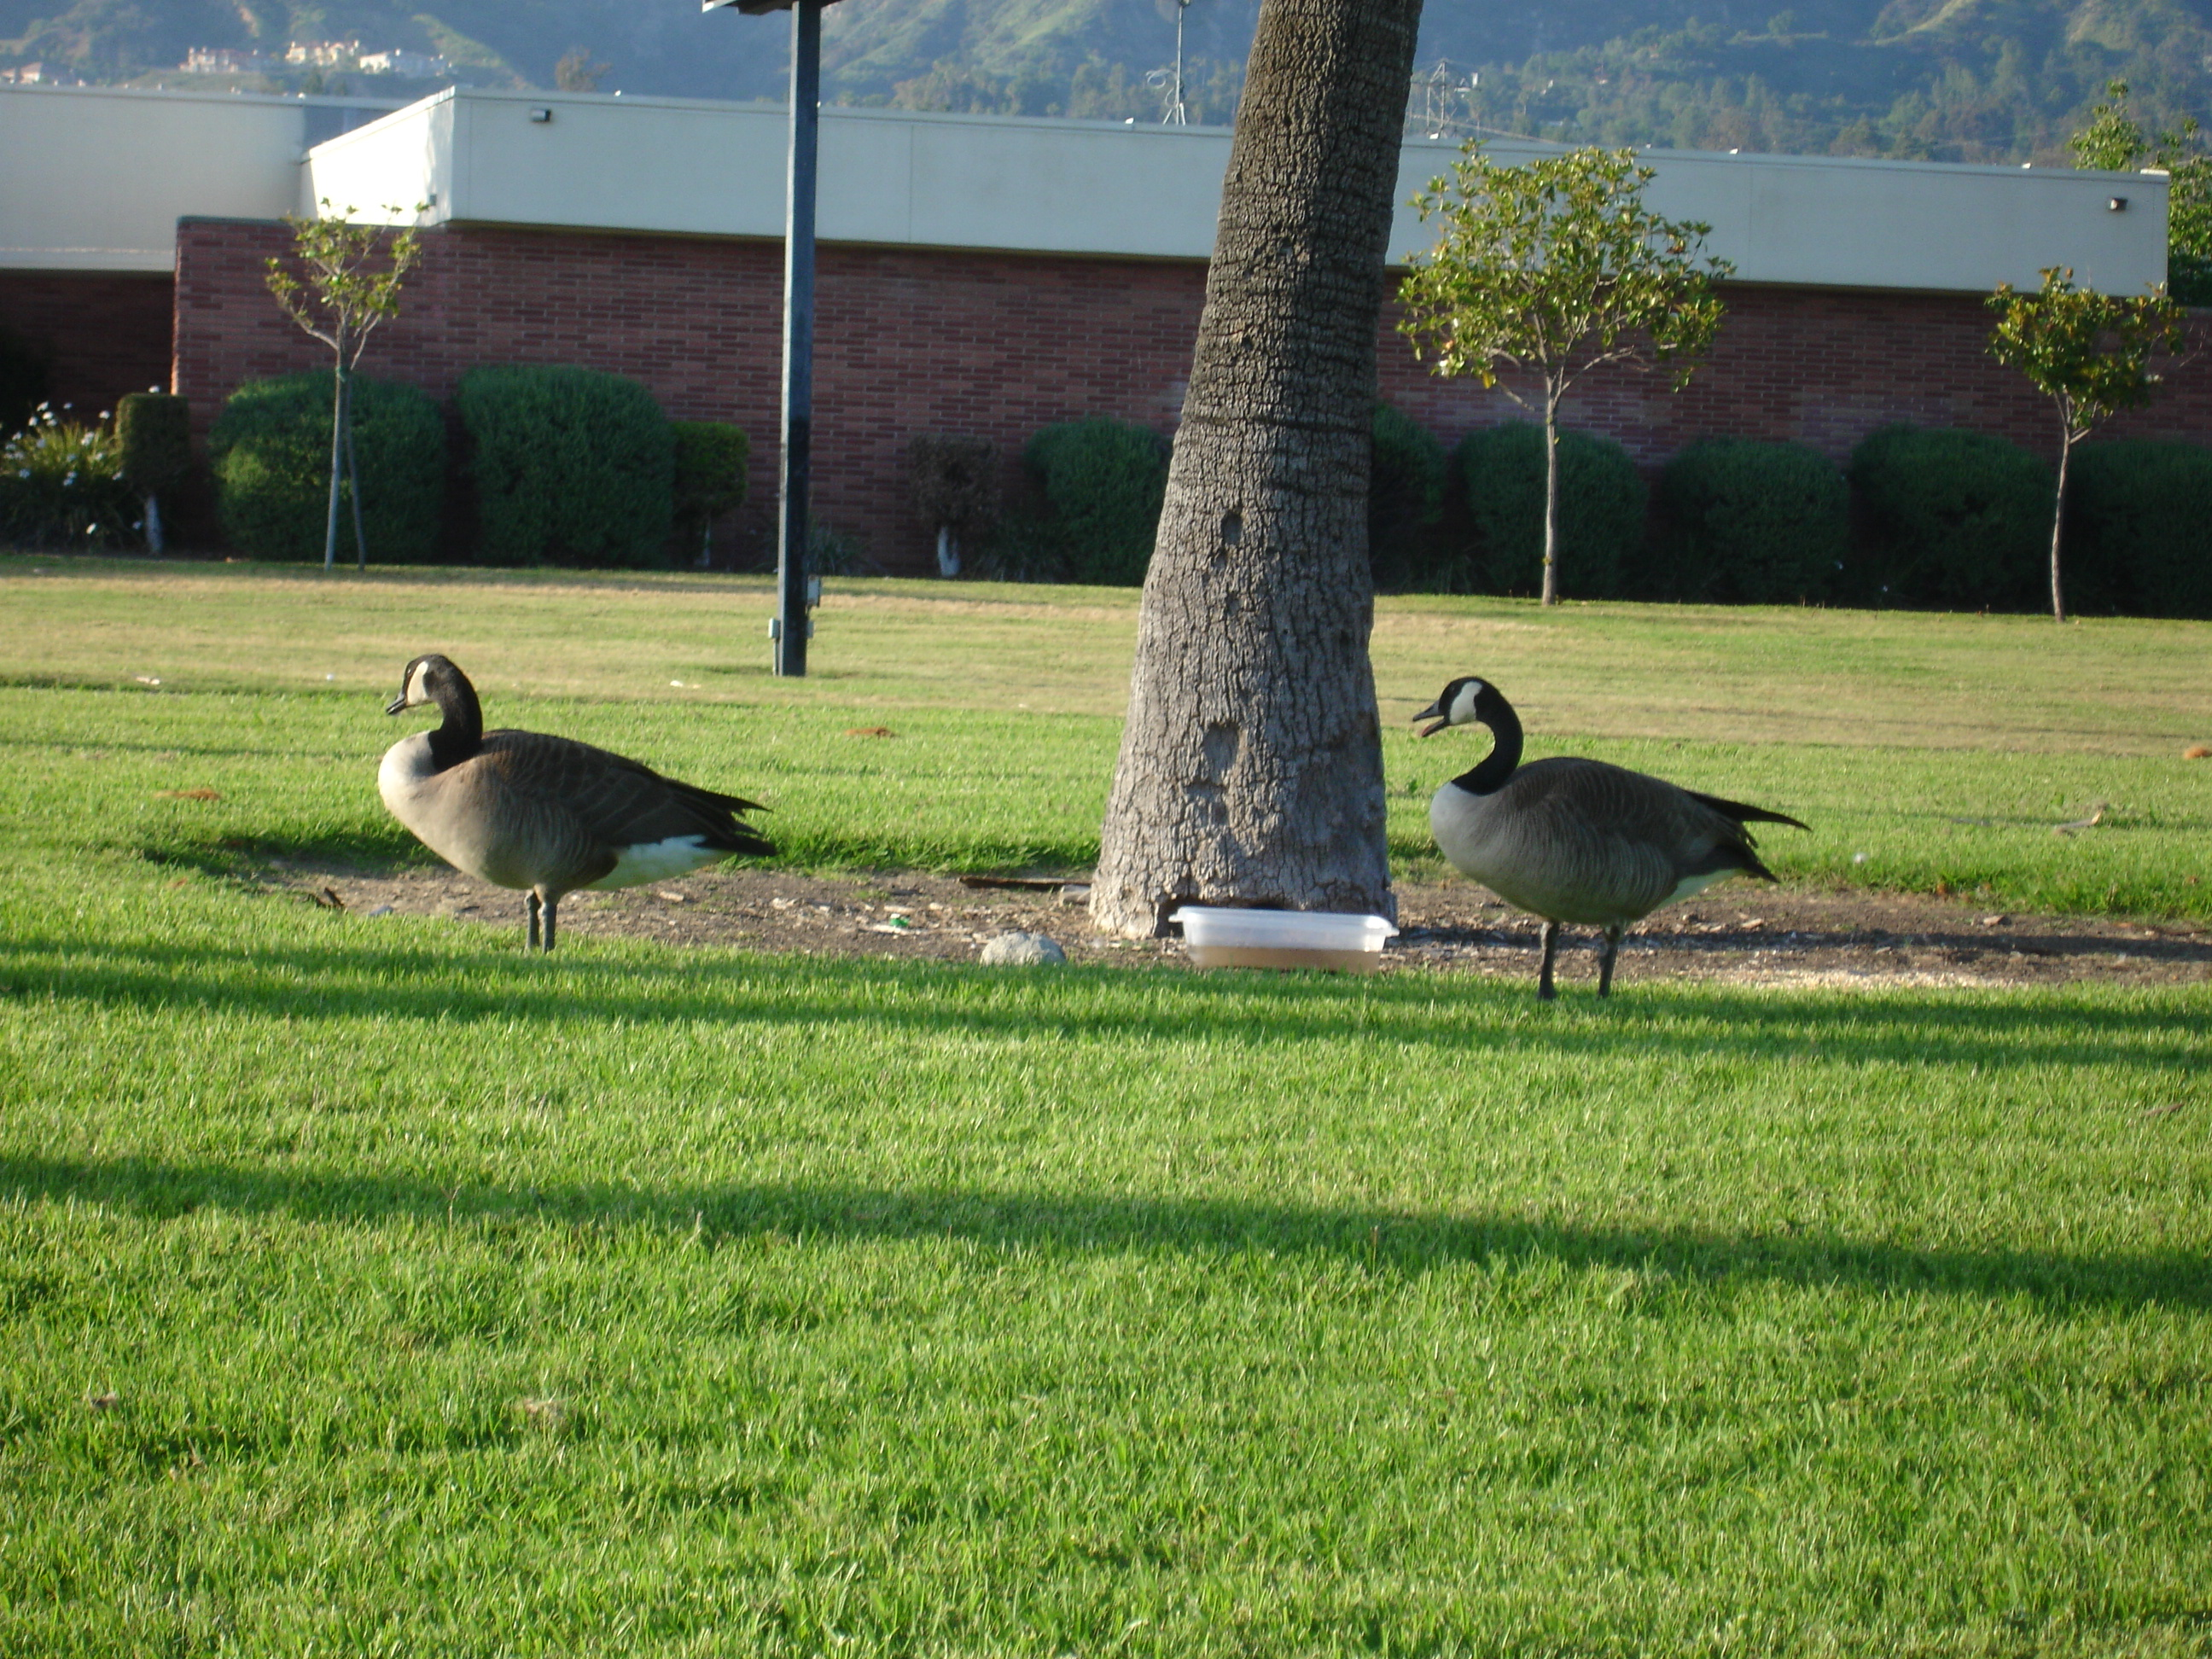goose: (1413, 674, 1804, 1019), (369, 647, 784, 969)
